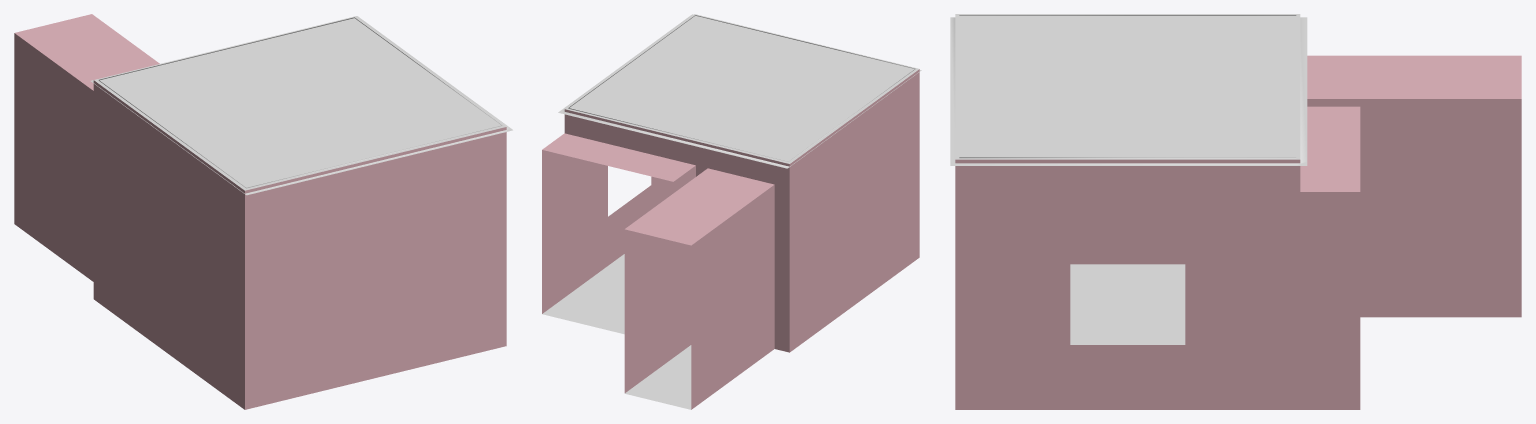
Rendered from DHPlayerRoomSceneRoomRoomMesh.fbx.
3 views of the same model, side by side, from view 1: azimuth 30°, elevation 25°; view 2: azimuth 150°, elevation 25°; view 3: azimuth 270°, elevation 25° (orthographic). The views are drawn at different scales.
Parts seen in each view (by area): view 1: Wood.001; view 2: Wood.001; view 3: Wood.001.
Part boxes in pixels (x1,y1,x2,y2): Wood.001: (14, 14, 512, 409); Wood.001: (542, 14, 921, 409); Wood.001: (950, 14, 1521, 409).
Size of the model in its own units: 306 by 241 by 497.
